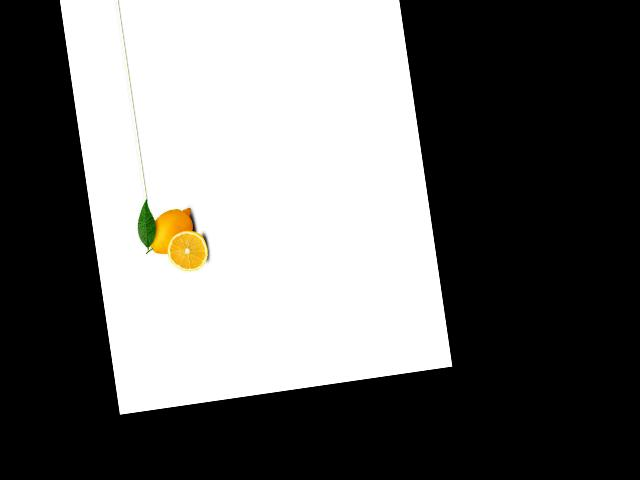lemon: (137, 200, 200, 260)
